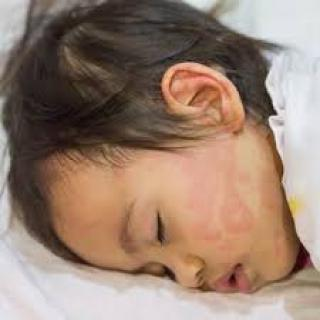urticaria: (177, 172, 253, 236)
